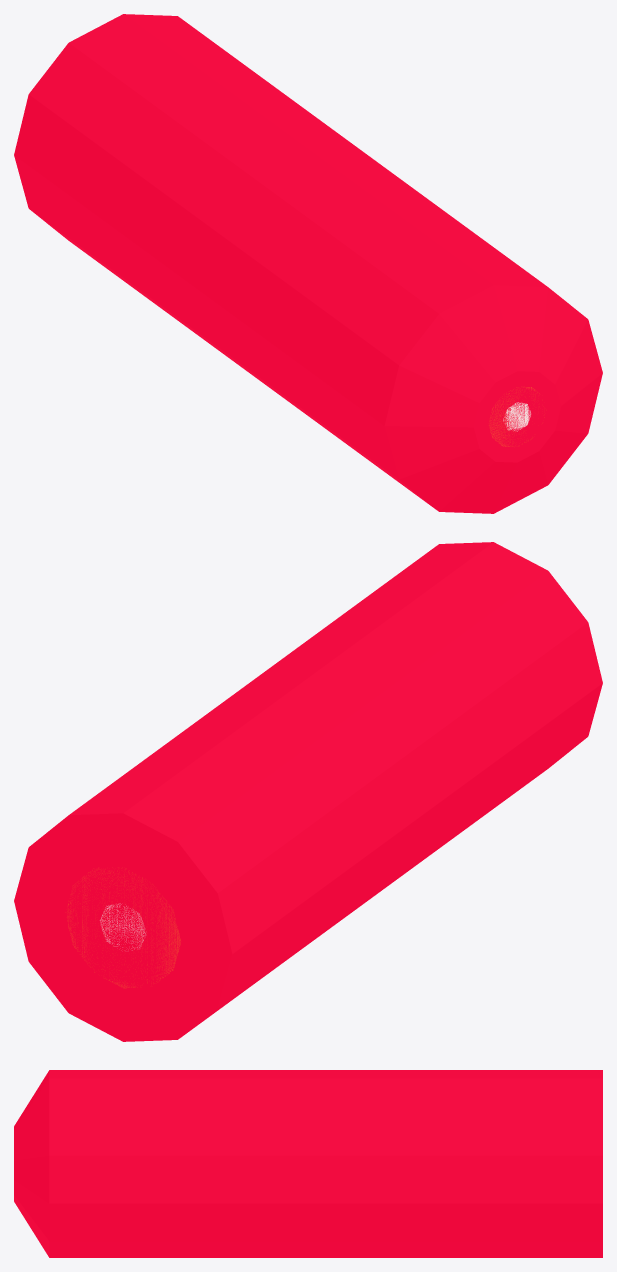
Rendered from laser_beam.glb.
The picture shows the model from 3 angles, top to bottom: view 1: azimuth 30°, elevation 25°; view 2: azimuth 150°, elevation 25°; view 3: azimuth 270°, elevation 25°; orthographic projection. The views are drawn at different scales.
Visible parts, largest first — view 1: laser_beam; view 2: laser_beam; view 3: laser_beam.
Boxes of the visible parts, x1,y1,x2,y2 form: laser_beam: (14,14,602,513); laser_beam: (14,542,602,1041); laser_beam: (14,1070,602,1257).
Bounding box in the file's own units: 0.32 × 0.32 × 1.
